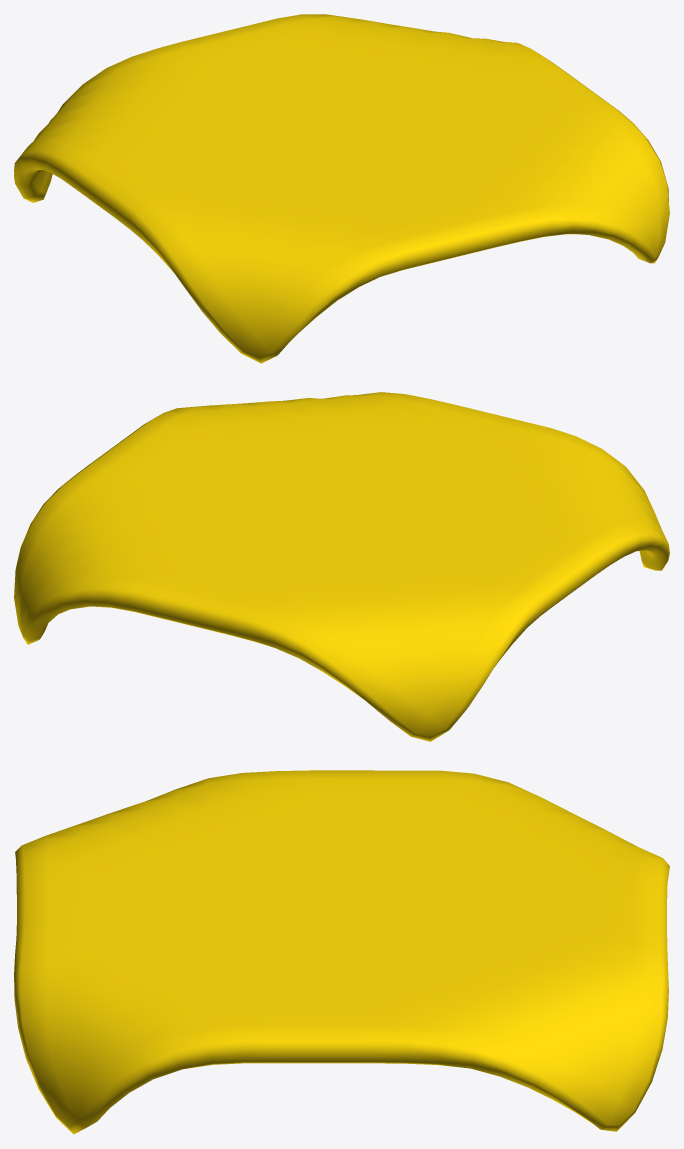
File: Queso.glb
3 renders of one model, top to bottom at view 1: azimuth 30°, elevation 25°; view 2: azimuth 150°, elevation 25°; view 3: azimuth 270°, elevation 25°, orthographic. The views are drawn at different scales.
Visible parts, largest first — view 1: Cheese; view 2: Cheese; view 3: Cheese.
Boxes of the visible parts, x1=… form: Cheese: x1=14, y1=14, x2=669, y2=363; Cheese: x1=14, y1=392, x2=669, y2=741; Cheese: x1=14, y1=770, x2=669, y2=1134.
Size of the model in its own units: 109 by 22.4 by 109.
